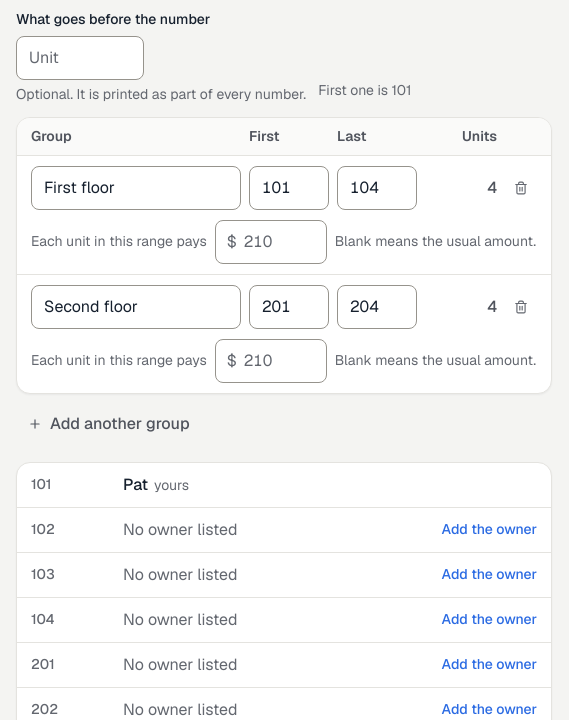
Scenario: the homes step, by home › gives each range an optional amount and totals by the rule
(page scrolled)
Type "285" into the number field named "Each unit in this range pays, Second floor" at (271, 360), box [215,338,327,382]
(page scrolled)
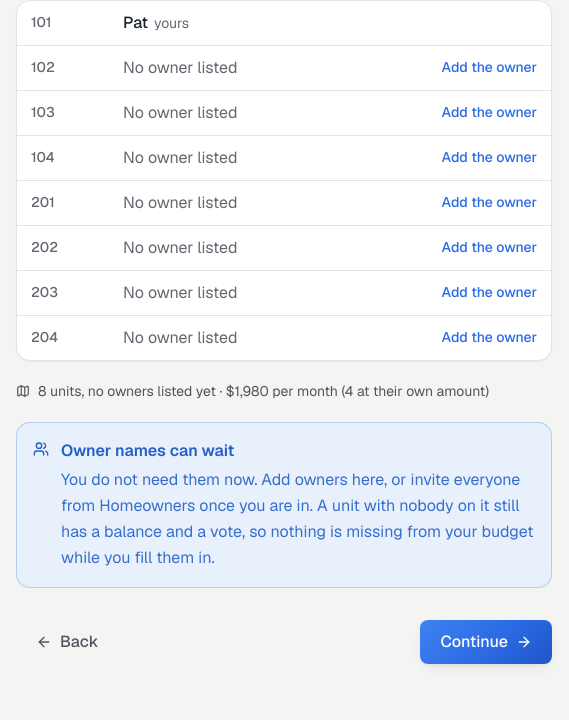
Expected: the text "4 at their own amount" is shown, [16,380,552,402]
